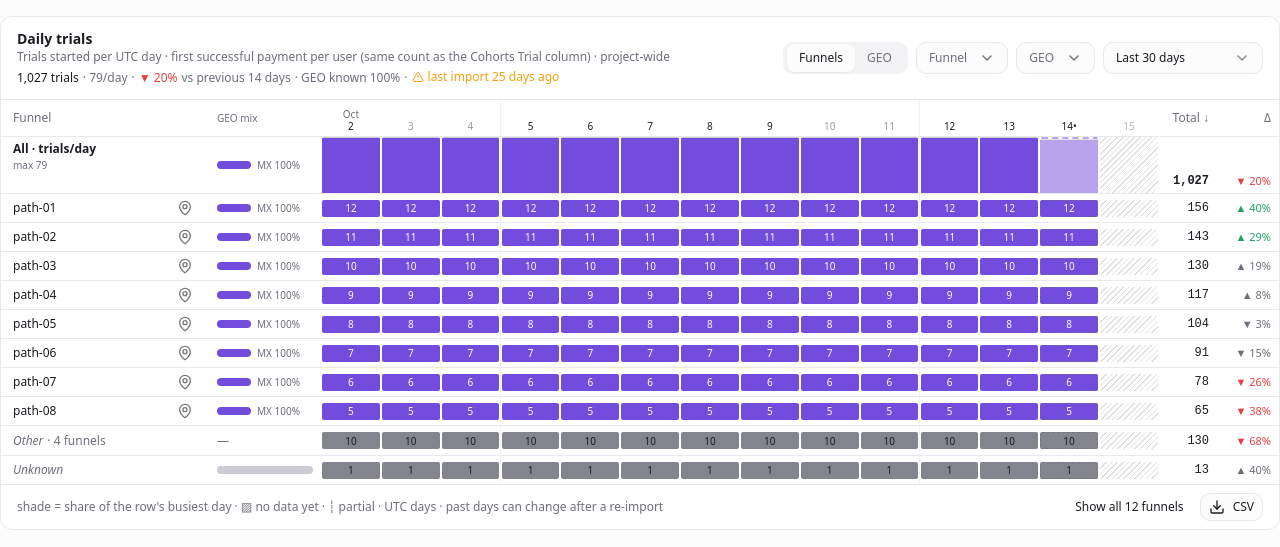
Test case: TrialsDailySection › the request is the range, the day grain and the member filters; switching to GEO asks nothing new
Press the mouse on the tab "GEO": x=880, y=58 [855, 44, 904, 72]
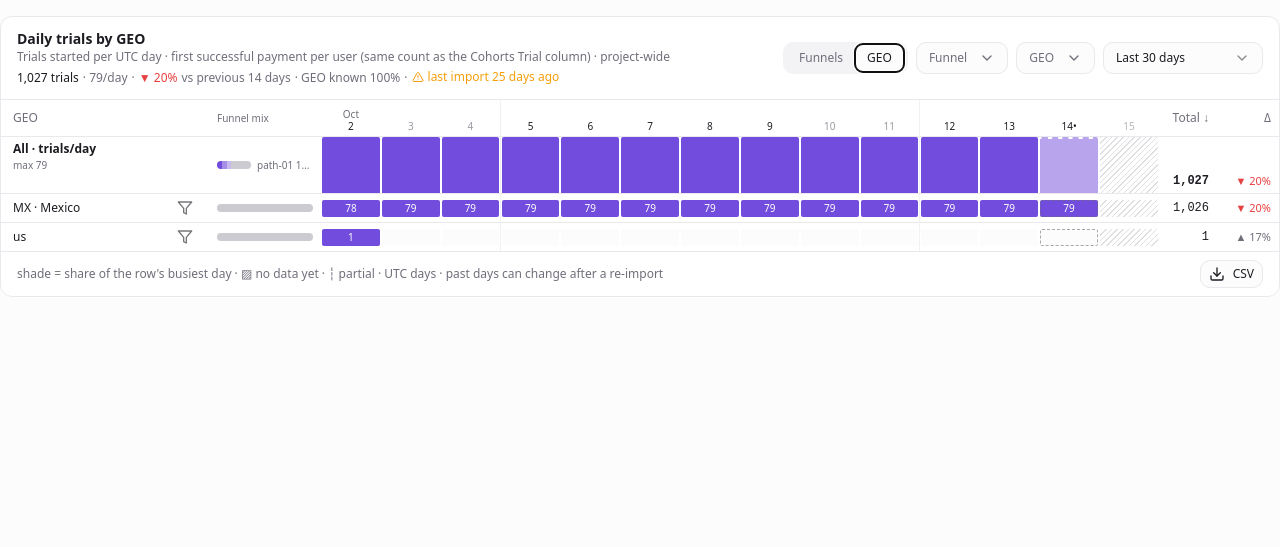
Result: the heading "Daily trials by GEO" is shown at [17, 29, 145, 48]
